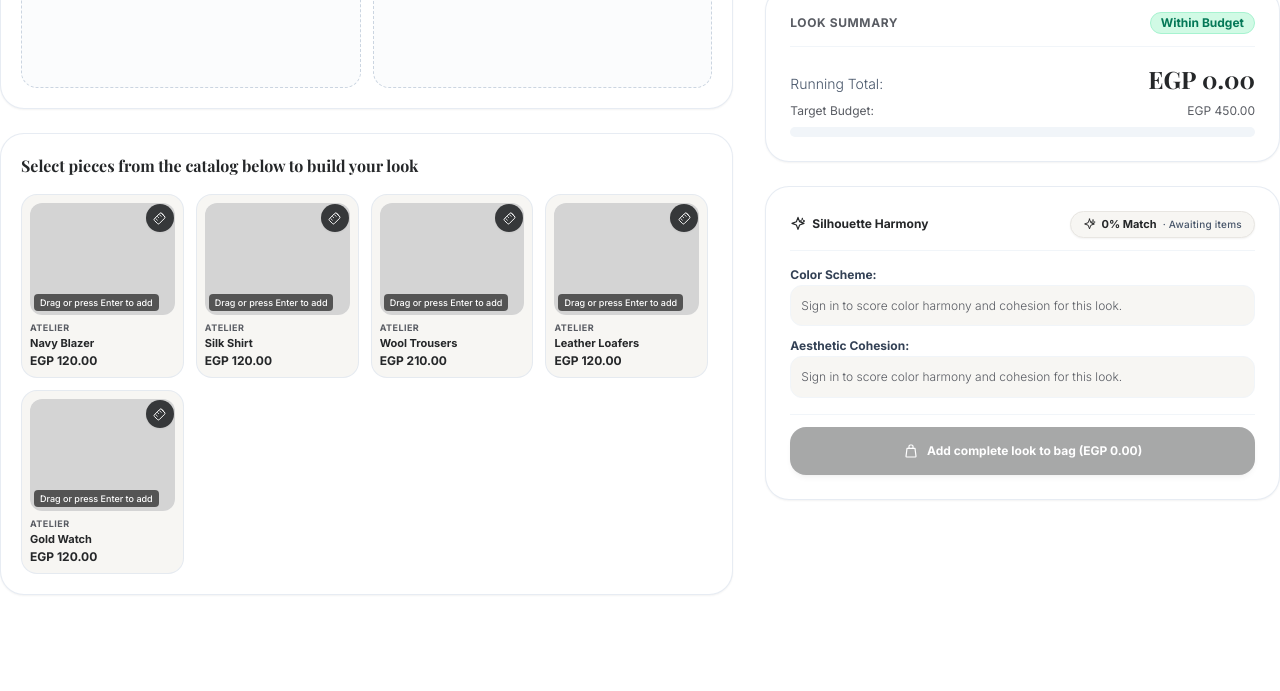
OutfitBuilderView — behavioral contract (C04) › GOAL budget honesty: over-budget state flips the badge and the progressbar reports real values
This screenshot has width=1280, height=691.
(page scrolled)
Click the button "Drag or press Enter to add Atelier Navy Blazer EGP 120.00" at (102, 286), box left=21, top=194, right=184, bottom=378
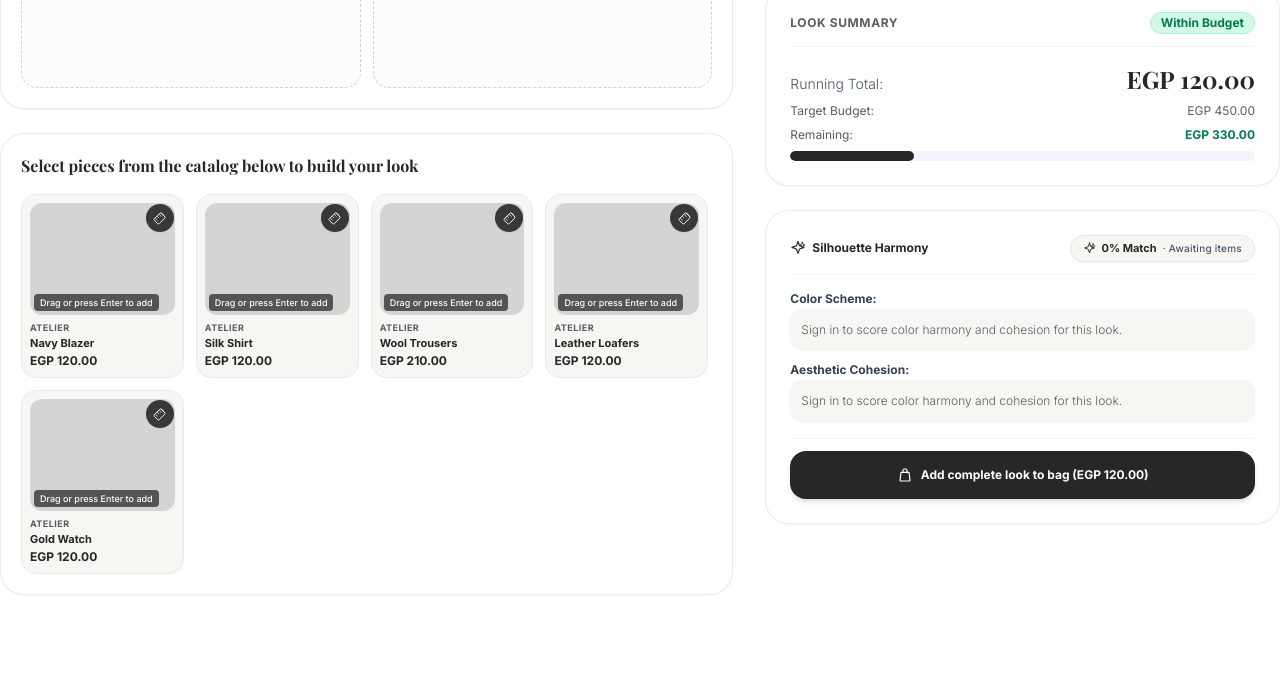
Click the button "Drag or press Enter to add Atelier Silk Shirt EGP 120.00" at (277, 286), box left=196, top=194, right=359, bottom=378
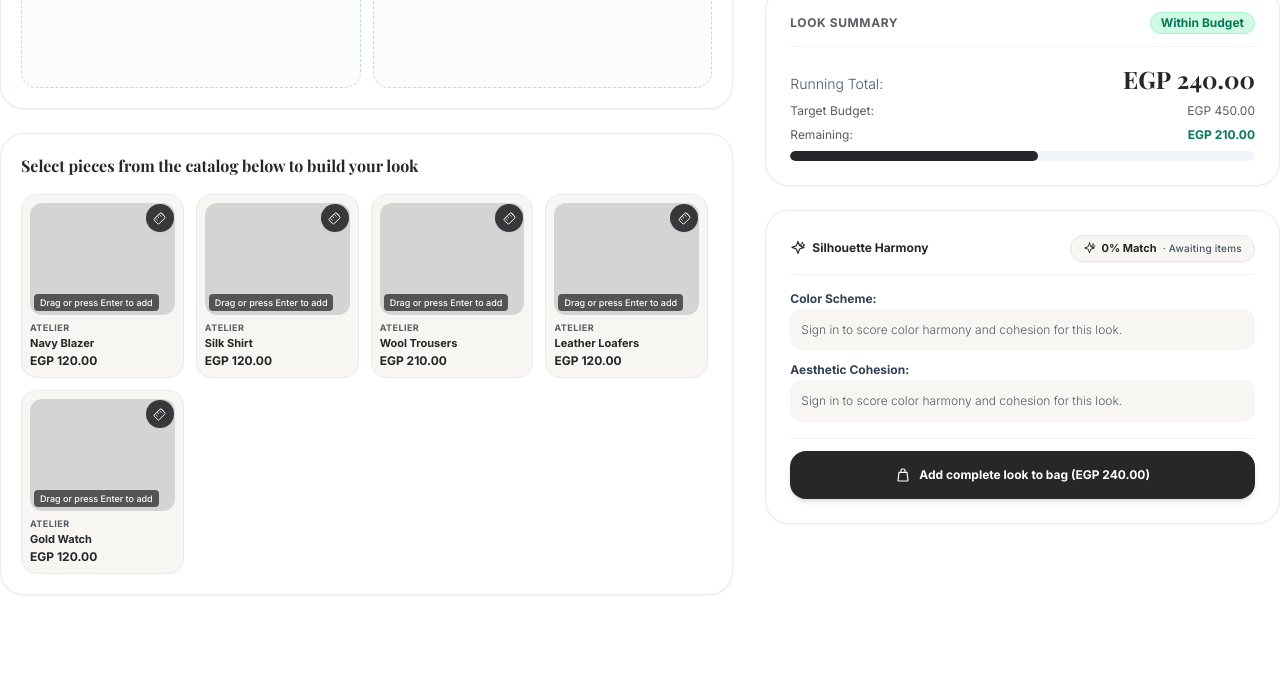
Click the button "Drag or press Enter to add Atelier Wool Trousers EGP 210.00" at (452, 286), box left=371, top=194, right=534, bottom=378
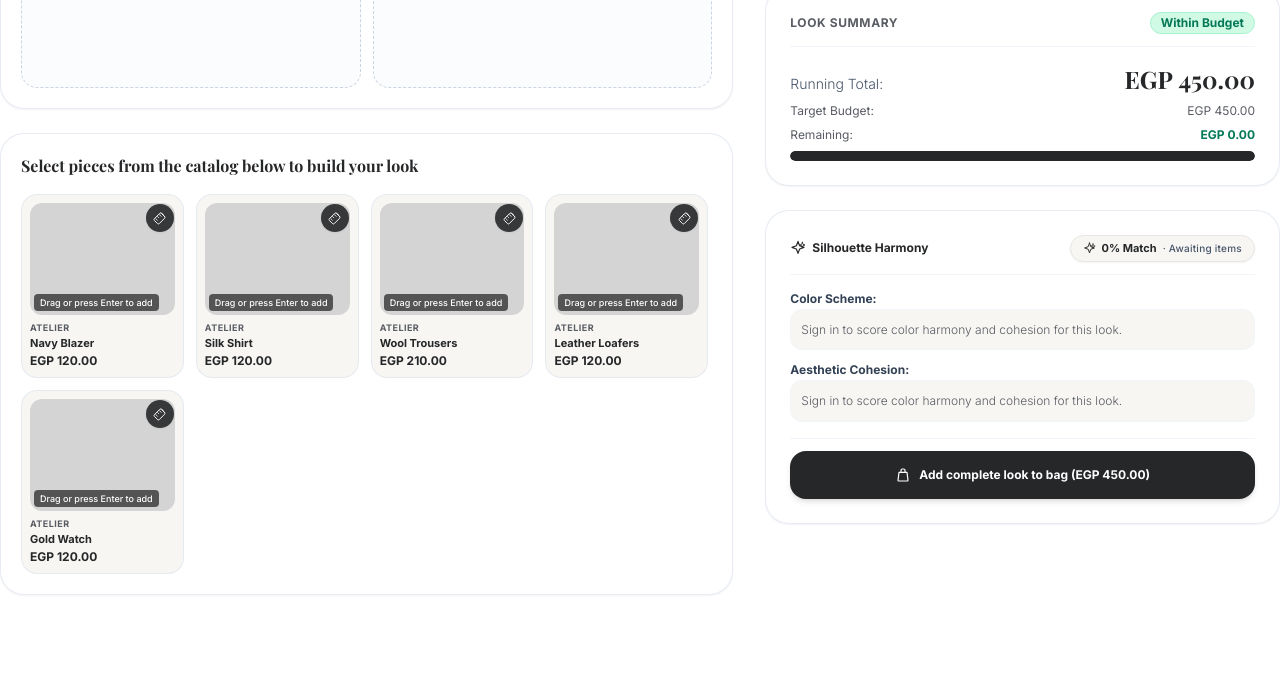
Check: the text "Within Budget" is shown, box left=1150, top=12, right=1255, bottom=34
Click the button with aria-label "Add Leather Loafers to outfit" at (627, 286), box left=546, top=194, right=708, bottom=378
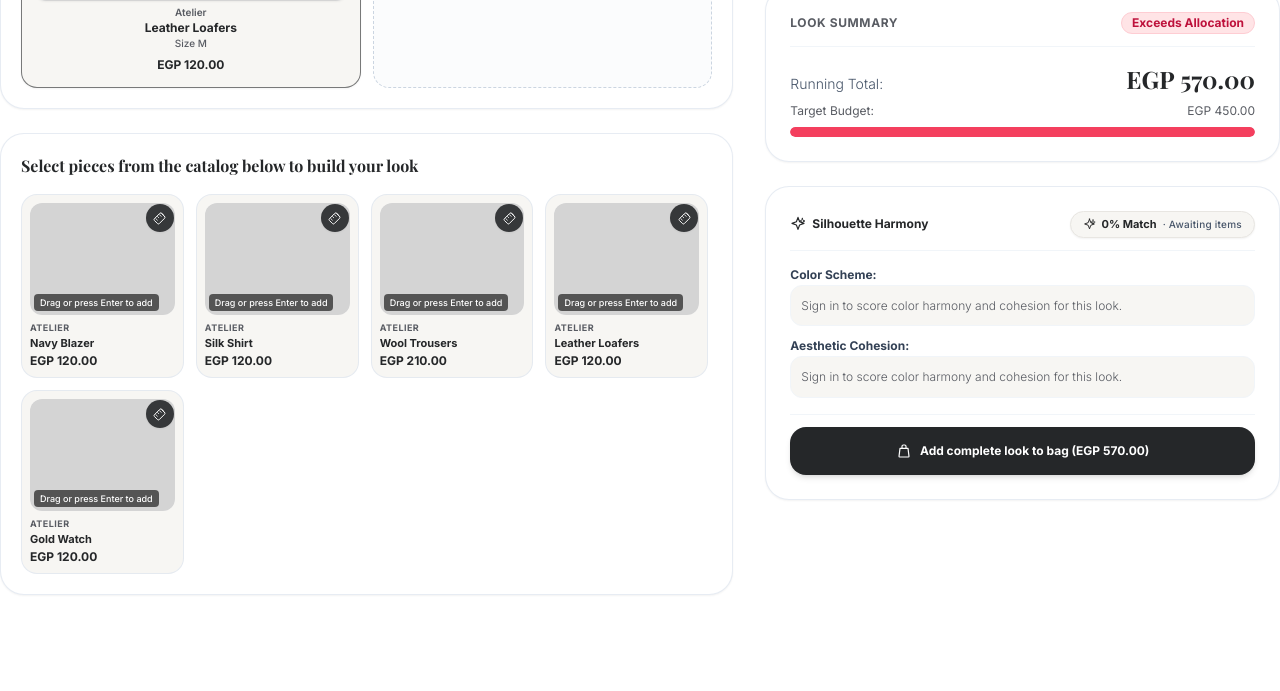
Check: the text "Exceeds Allocation" is shown, box left=1121, top=12, right=1255, bottom=34
